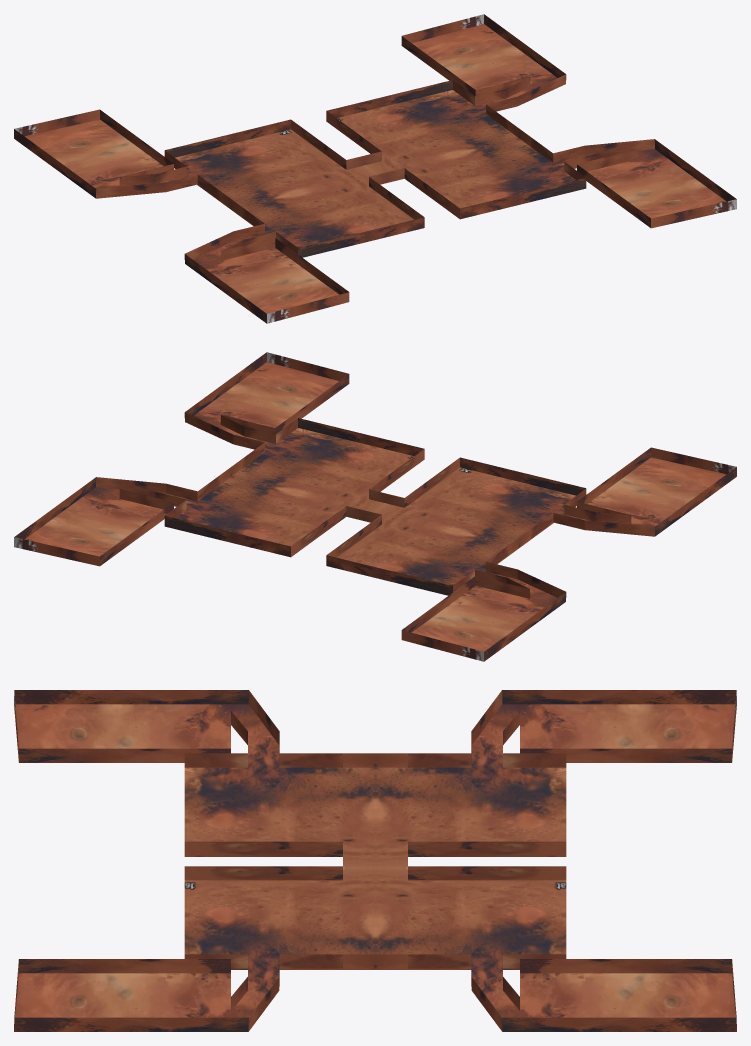
The model's file is MapaSimple.obj.
3 renders of one model, top to bottom at view 1: azimuth 30°, elevation 25°; view 2: azimuth 150°, elevation 25°; view 3: azimuth 270°, elevation 25°, orthographic. The views are drawn at different scales.
Parts seen in each view (by area): view 1: Cube; view 2: Cube; view 3: Cube.
Part boxes in pixels (left/top/right/bottom): Cube: left=14, top=14, right=736, bottom=323; Cube: left=14, top=352, right=736, bottom=661; Cube: left=14, top=690, right=736, bottom=1031.
Bounding box in the file's own units: 52.23 × 1.15 × 48.68.
